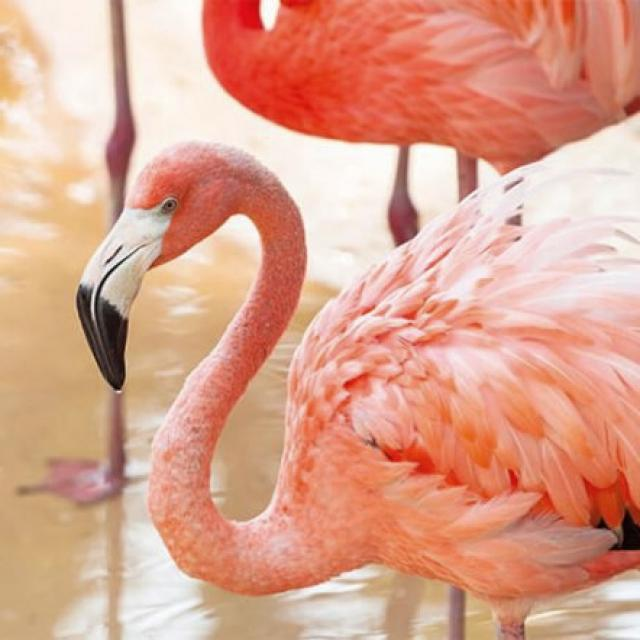flamingo: (78, 116, 640, 639)
